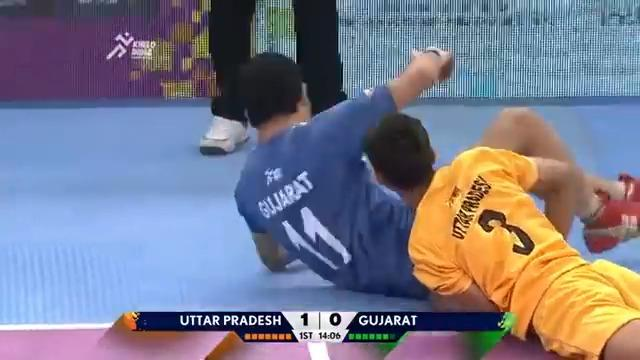Player: (361, 107, 639, 359)
Raider: (232, 44, 455, 299)
referee: (198, 0, 347, 155), (198, 0, 256, 155), (292, 0, 347, 116)
